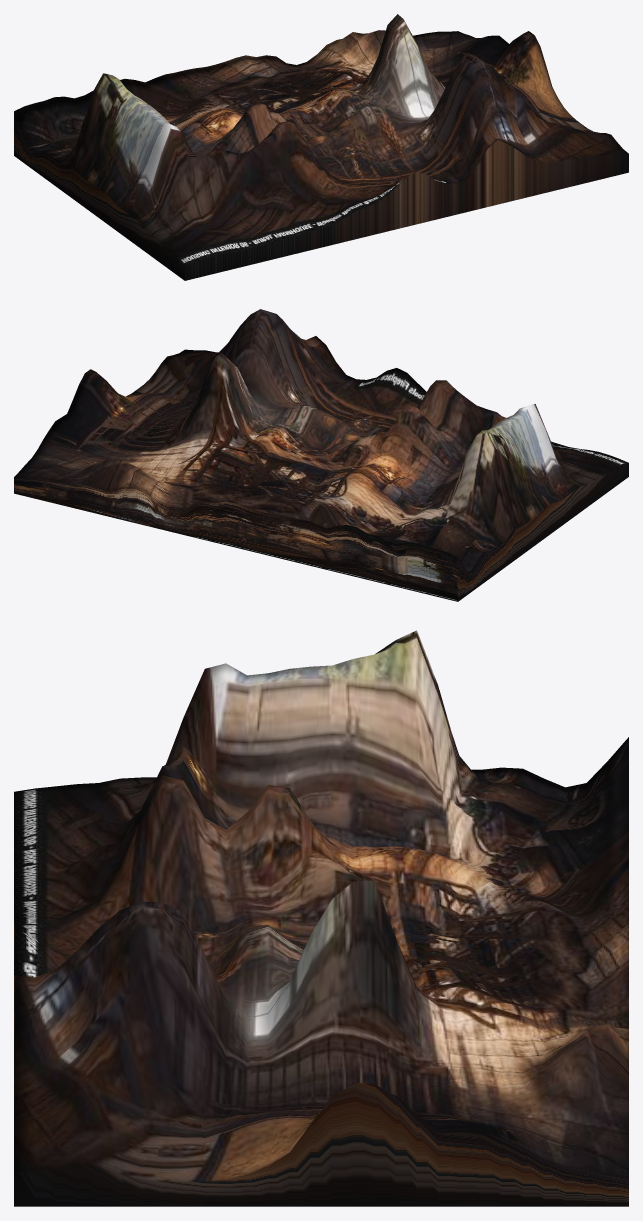
The model's file is INTERIOR_06_Rural_Farmhouse.glb.
3 views of the same model, one above another, from view 1: azimuth 30°, elevation 25°; view 2: azimuth 150°, elevation 25°; view 3: azimuth 270°, elevation 25° (orthographic). The views are drawn at different scales.
Parts seen in each view (by area): view 1: INTERIOR_06_Rural_Farmhouse; view 2: INTERIOR_06_Rural_Farmhouse; view 3: INTERIOR_06_Rural_Farmhouse.
Part boxes in pixels (bbox=[...]): INTERIOR_06_Rural_Farmhouse: bbox=[14, 14, 628, 280]; INTERIOR_06_Rural_Farmhouse: bbox=[14, 309, 628, 601]; INTERIOR_06_Rural_Farmhouse: bbox=[14, 630, 628, 1206].
Bounding box in the file's own units: 2 × 0.51 × 1.33.
Materials: 1 (1 with a texture image).
